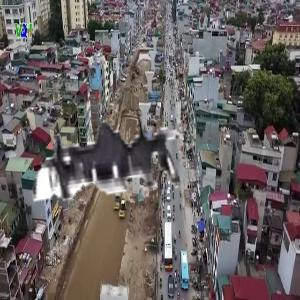drone: (18, 69, 211, 262)
